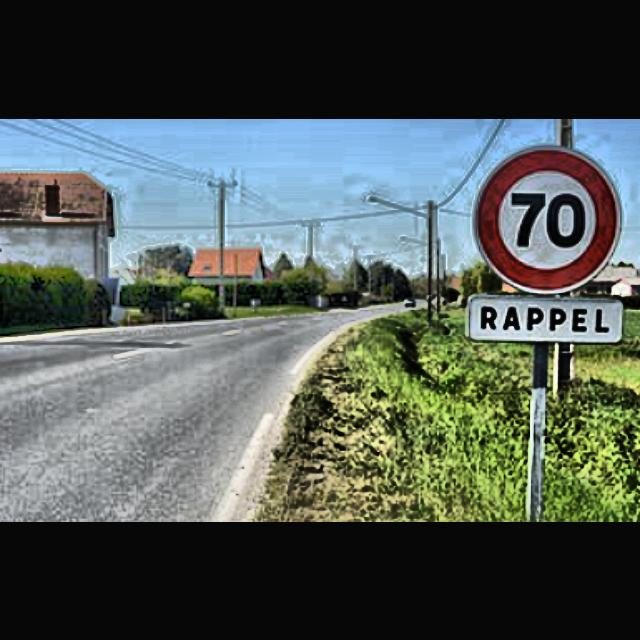speed_70: (472, 143, 624, 295)
